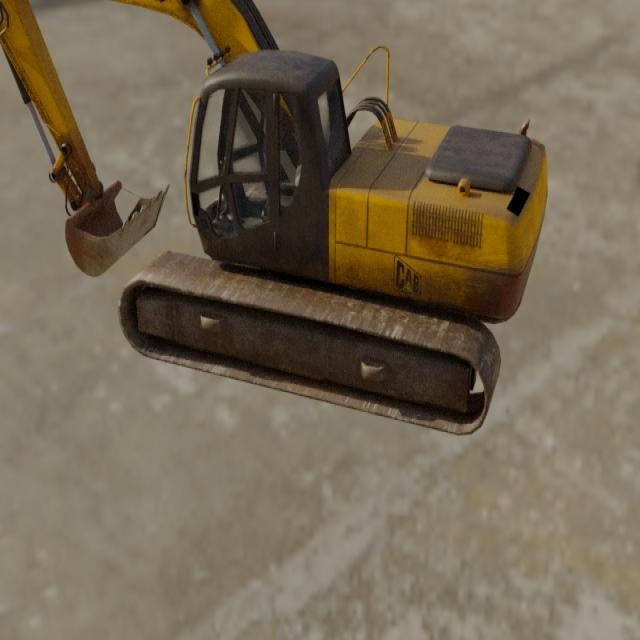excavator: (0, 0, 549, 437)
